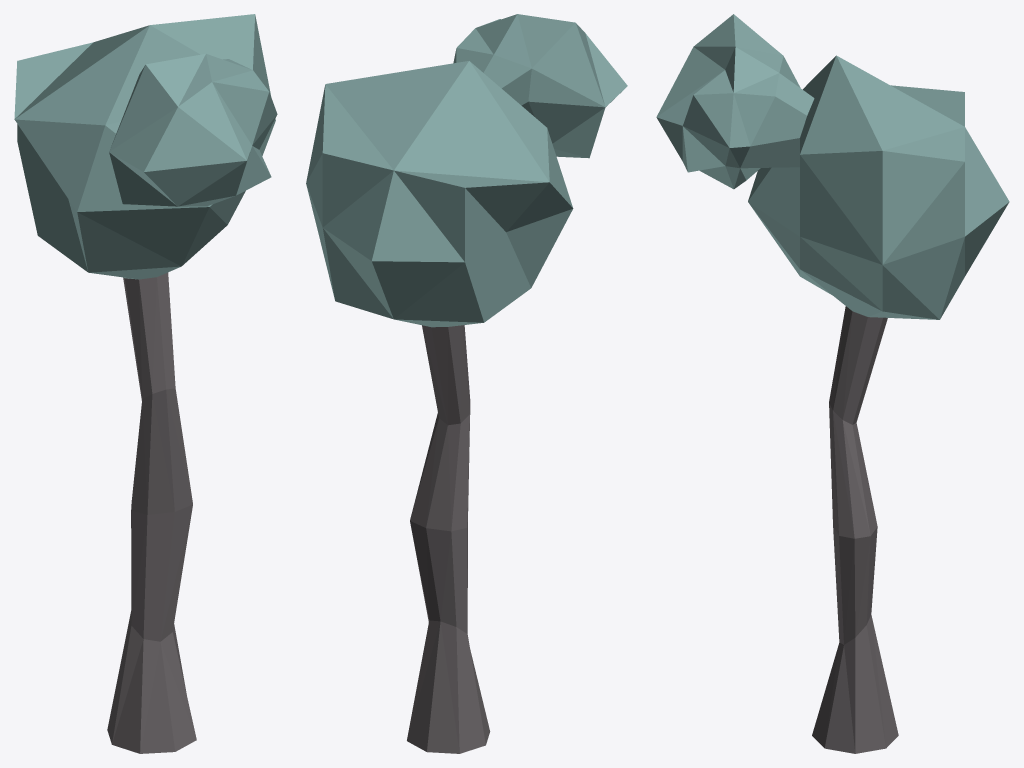
The model's file is tree02NEW.fbx.
3 views of the same model, side by side, from view 1: azimuth 30°, elevation 25°; view 2: azimuth 150°, elevation 25°; view 3: azimuth 270°, elevation 25° (orthographic). The views are drawn at different scales.
Visible parts, largest first — view 1: pCube17; view 2: pCube17; view 3: pCube17.
Part boxes in pixels (left/top/right/bottom): pCube17: left=14, top=14, right=277, bottom=753; pCube17: left=306, top=14, right=627, bottom=753; pCube17: left=656, top=14, right=1009, bottom=753.
Bounding box in the file's own units: 0.0463 × 0.1245 × 0.0579.
